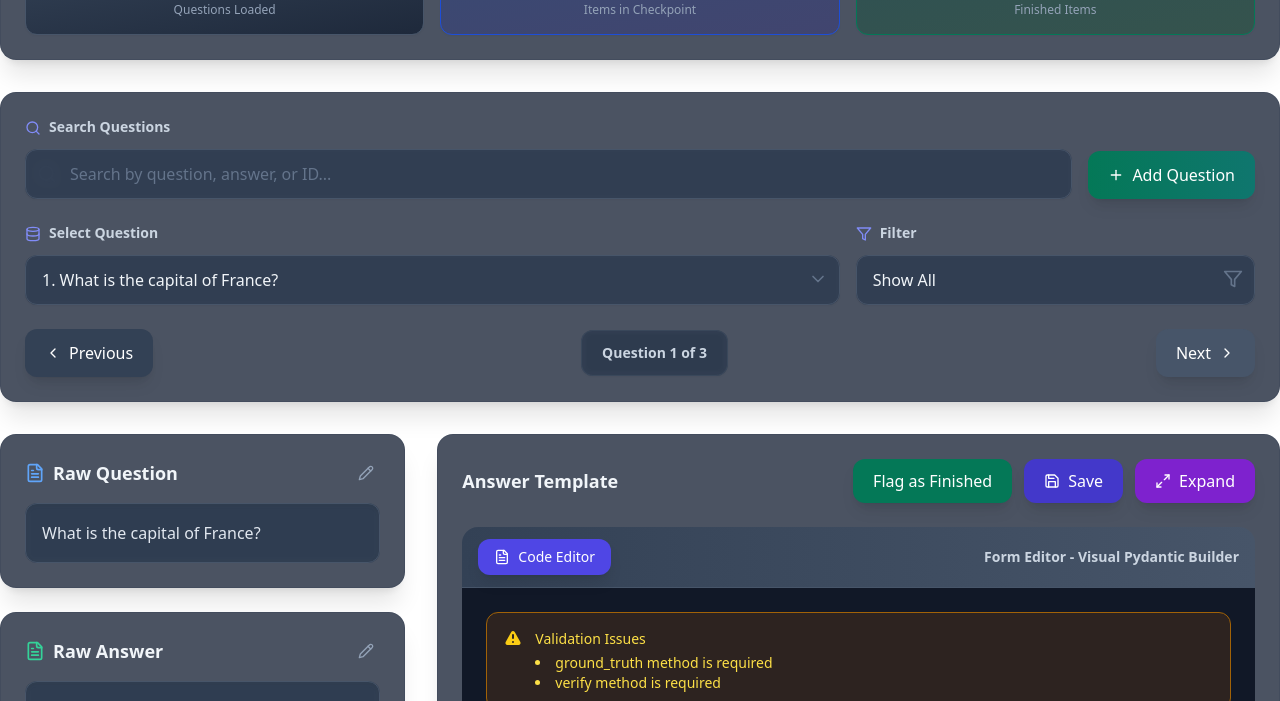
Test: Question Navigation Integration Tests › integ-010: Question navigation in curator › should verify selected question updates in store
(page scrolled)
Expected: the text "Question 1 of 3" is shown, [602,343,707,363]
Note: Navigate to q2 using next button
Click the button "Next": point(1205, 353) [1156,329,1255,377]
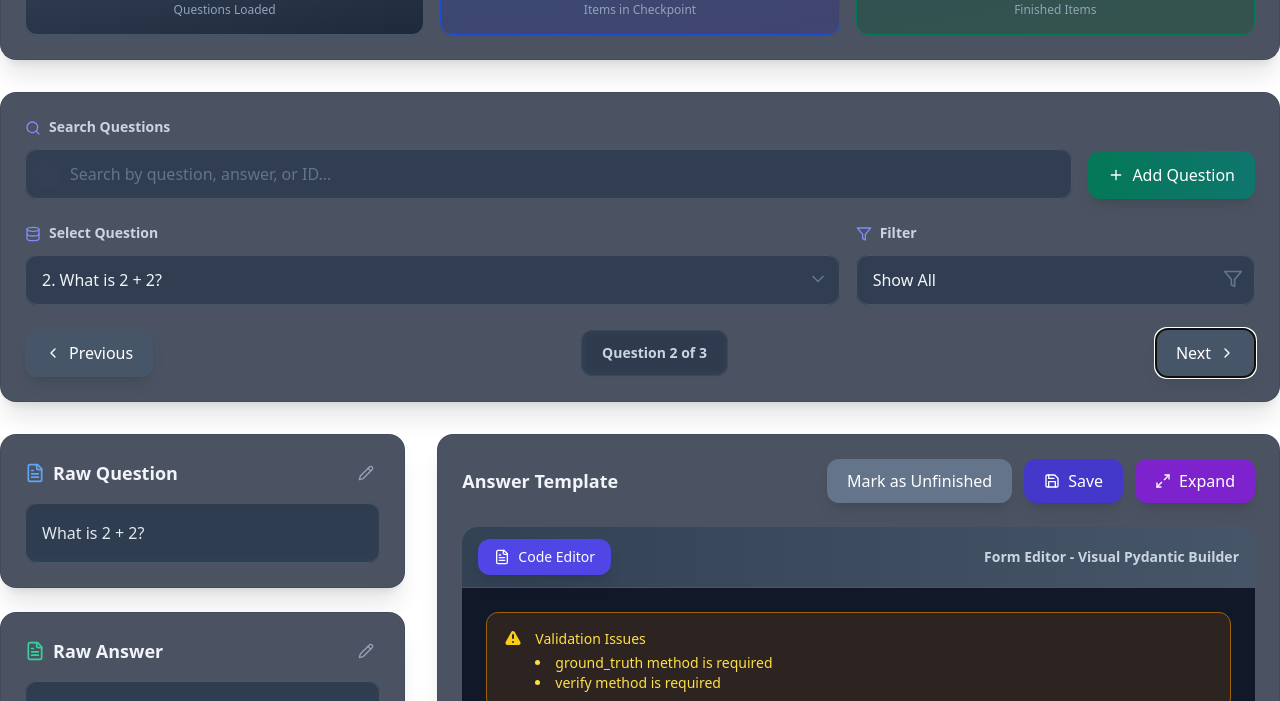
Now the text "What is 2 + 2?" is shown, box [42,522,144,544]
